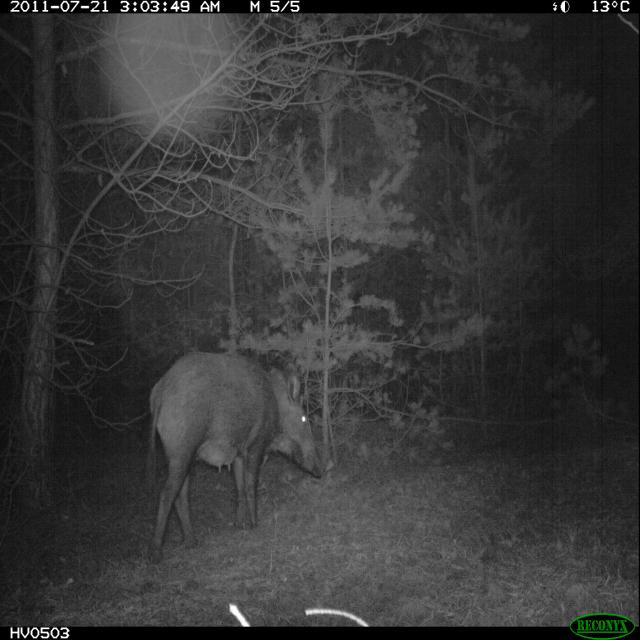boar: (124, 332, 330, 552)
